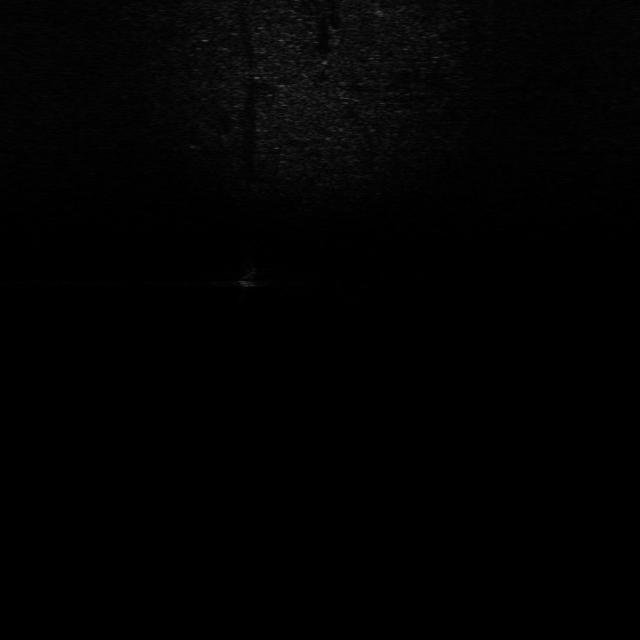human body: (230, 251, 260, 304)
